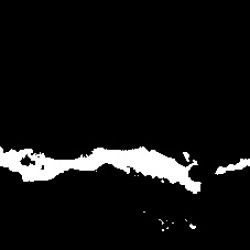crack: (1, 145, 201, 193), (216, 159, 248, 176)
pinhole: (189, 224, 198, 229)
